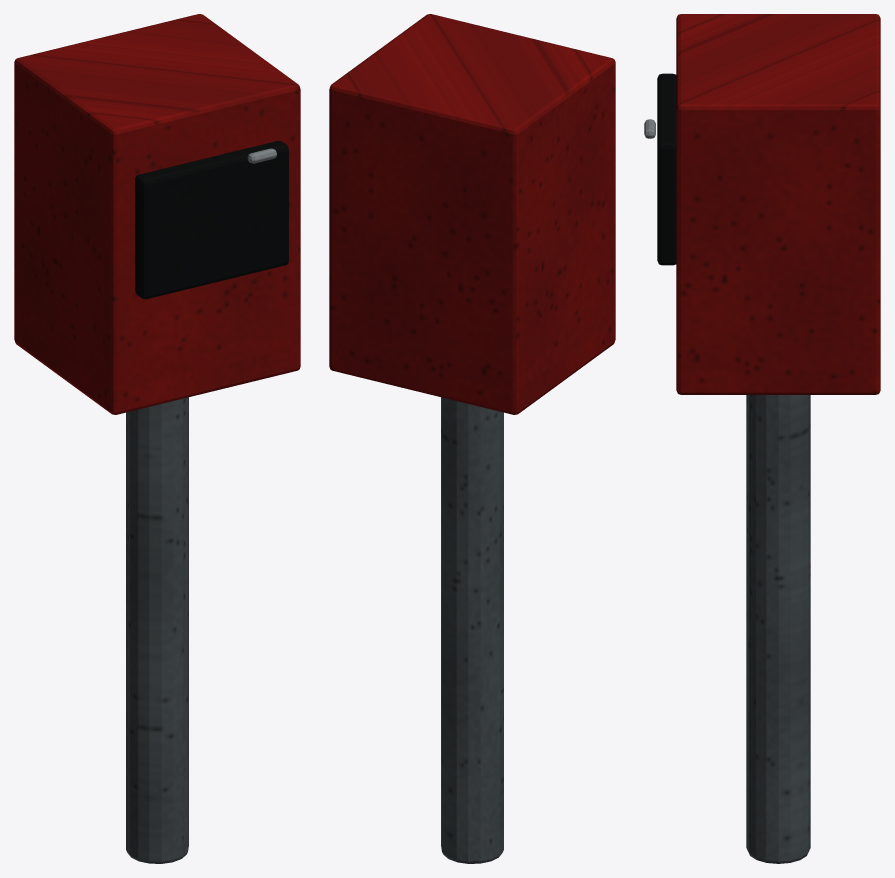
Rendered from PROP-A0ABBE1125F4_lod0.glb.
3 renders of one model, left to right at view 1: azimuth 30°, elevation 25°; view 2: azimuth 150°, elevation 25°; view 3: azimuth 270°, elevation 25°, orthographic.
Visible parts, largest first — view 1: cabinet, fixture_post, recessed_front; view 2: cabinet, fixture_post; view 3: cabinet, fixture_post, recessed_front.
Boxes of the visible parts, bbox=[...] form: cabinet: bbox=[14, 14, 300, 414]; fixture_post: bbox=[126, 397, 188, 863]; recessed_front: bbox=[135, 141, 288, 299]; cabinet: bbox=[329, 14, 615, 414]; fixture_post: bbox=[441, 397, 503, 863]; cabinet: bbox=[676, 14, 880, 394]; fixture_post: bbox=[746, 395, 810, 863]; recessed_front: bbox=[657, 73, 676, 265].
Size of the model in its own units: 0.38 by 1.5 by 0.405.
Materials: 4 (4 with a texture image).
